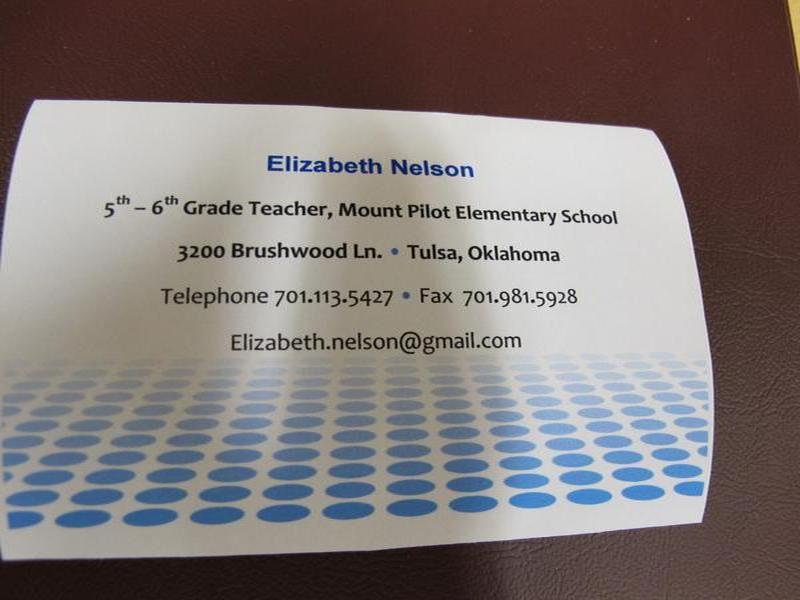card: (2, 89, 719, 554)
